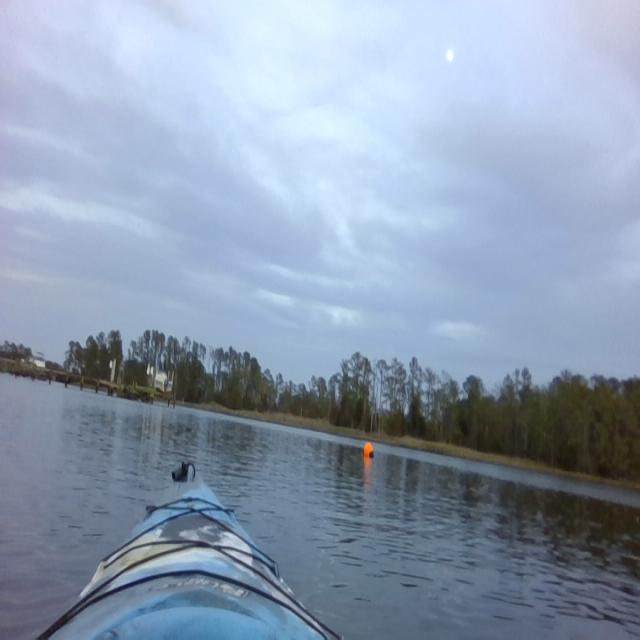Buoy: (363, 437, 375, 463)
